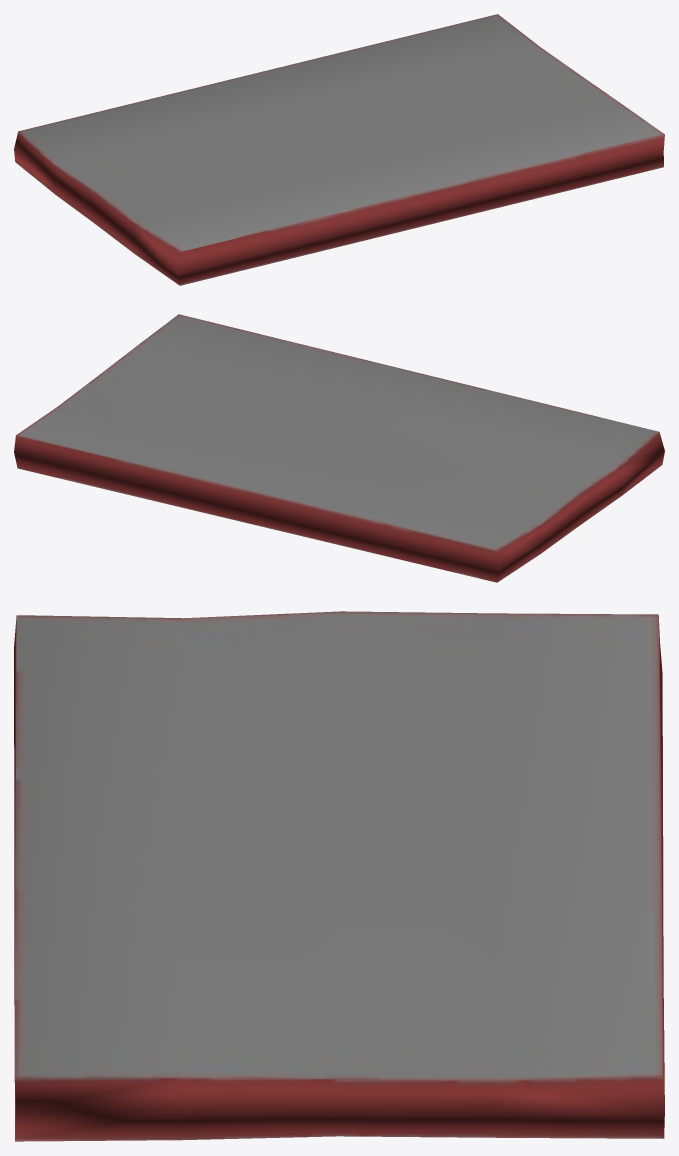
File: lo_wide_wood.fbx
3 renders of one model, top to bottom at view 1: azimuth 30°, elevation 25°; view 2: azimuth 150°, elevation 25°; view 3: azimuth 270°, elevation 25°, orthographic. The views are drawn at different scales.
Parts seen in each view (by area): view 1: wide_wood_lo; view 2: wide_wood_lo; view 3: wide_wood_lo.
Boxes of the visible parts, x1,y1,x2,y2 form: wide_wood_lo: (14, 14, 664, 285); wide_wood_lo: (14, 314, 664, 582); wide_wood_lo: (14, 611, 664, 1141).
Bounding box in the file's own units: 16.39 × 1.08 × 9.64.
Materials: 1 (1 with a texture image).
